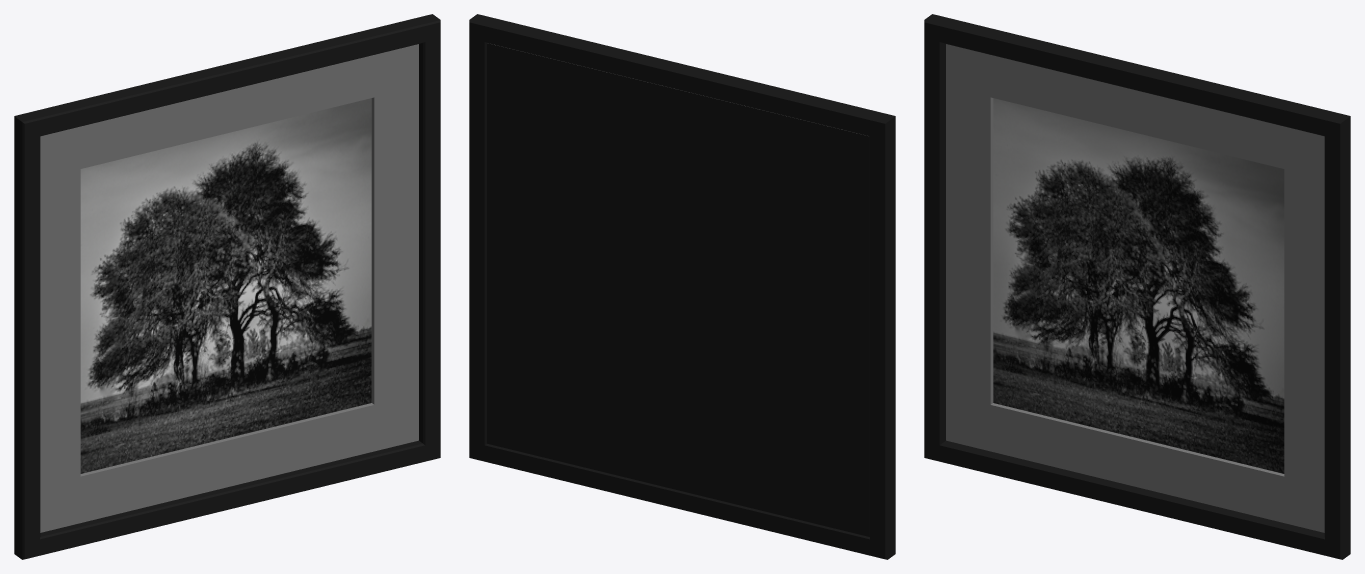
The model's file is Picture 5.FBX.
3 renders of one model, left to right at view 1: azimuth 30°, elevation 25°; view 2: azimuth 150°, elevation 25°; view 3: azimuth 330°, elevation 25°, orthographic.
Parts seen in each view (by area): view 1: picture 5; view 2: picture 5; view 3: picture 5.
Part boxes in pixels (x1,y1,x2,y2): picture 5: (14, 14, 440, 559); picture 5: (469, 14, 895, 559); picture 5: (924, 14, 1350, 559).
Bounding box in the file's own units: 470 × 470 × 20.
Materials: 1 (1 with a texture image).
